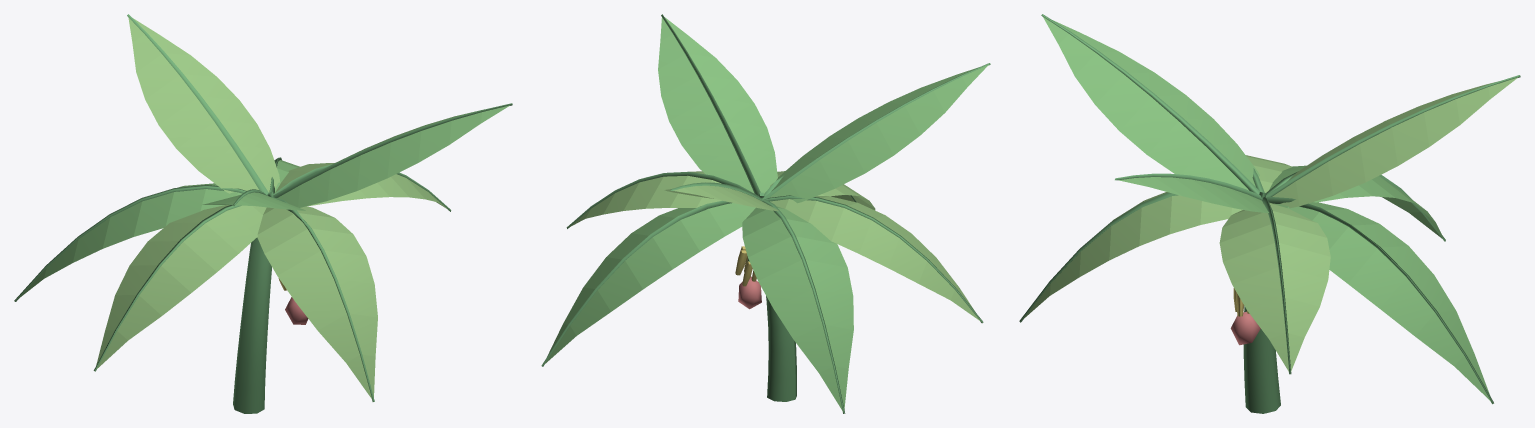
File: banane_1.glb
The picture shows the model from 3 angles, left to right: view 1: azimuth 30°, elevation 25°; view 2: azimuth 150°, elevation 25°; view 3: azimuth 270°, elevation 25°; orthographic projection. The views are drawn at different scales.
Visible parts, largest first — view 1: G_banane_1; view 2: G_banane_1; view 3: G_banane_1.
Boxes of the visible parts, bbox=[...] form: G_banane_1: bbox=[14, 14, 512, 413]; G_banane_1: bbox=[541, 14, 990, 413]; G_banane_1: bbox=[1019, 14, 1520, 413].
Size of the model in its own units: 5.6 by 4.13 by 5.66.
